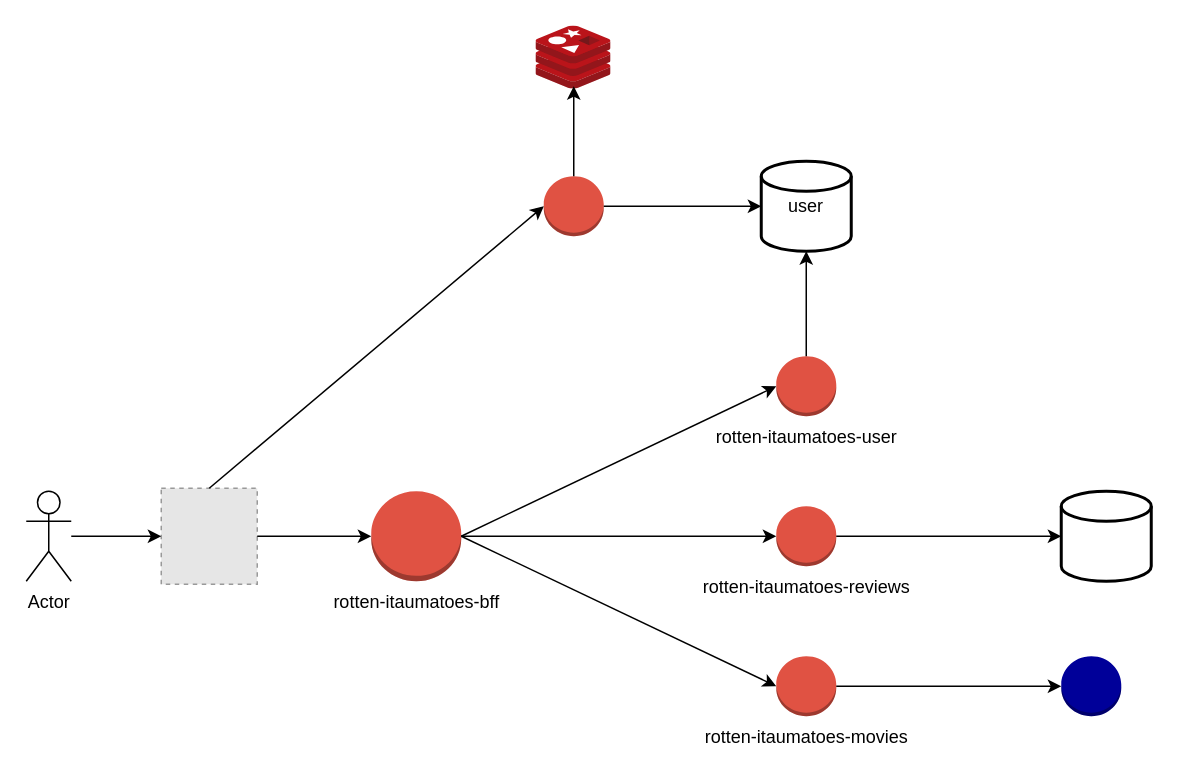
Image size: 1179x773. Some labels were removed from this diagram. Grey dashed boxes stand in for pictures. The shapes that lost their labels are listed below. From the top down, each one's centre as x and y in pixels, then its label:
(x=573, y=205): auth-server
(x=1105, y=535): reviews
(x=1090, y=685): OMDB API
